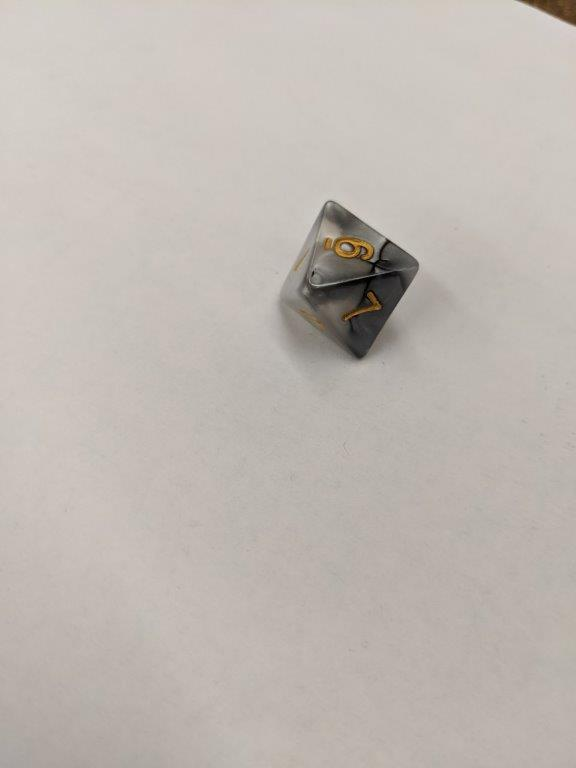d8-6: (278, 199, 420, 361)
